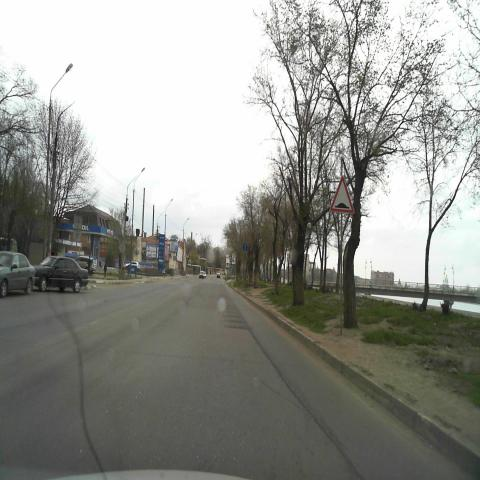1_17: (329, 175, 355, 214)
